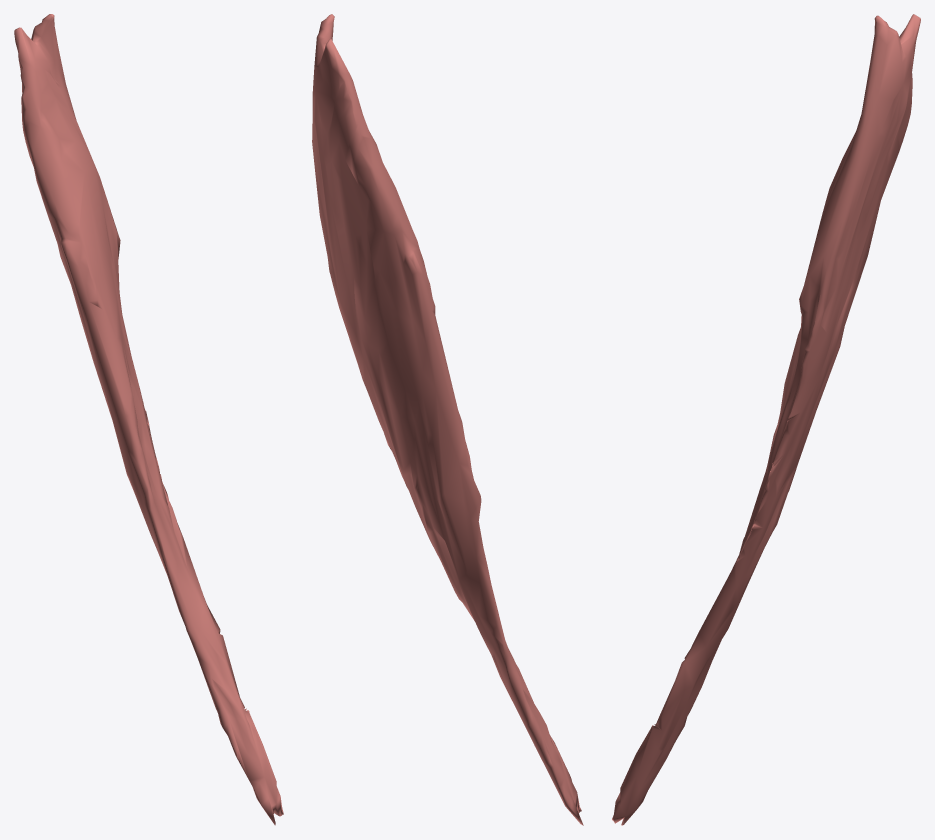
3 views of the same model, side by side, from view 1: azimuth 90°, elevation 25°; view 2: azimuth 150°, elevation 25°; view 3: azimuth 270°, elevation 25° (orthographic). The views are drawn at different scales.
Parts seen in each view (by area): view 1: ZA_f33c67ca772fb9ff; view 2: ZA_f33c67ca772fb9ff; view 3: ZA_f33c67ca772fb9ff.
Part boxes in pixels (x1,y1,x2,y2): ZA_f33c67ca772fb9ff: (14,14,283,825); ZA_f33c67ca772fb9ff: (312,14,583,825); ZA_f33c67ca772fb9ff: (612,14,920,825).
Size of the model in its own units: 0.0416 by 0.2201 by 0.0708.
